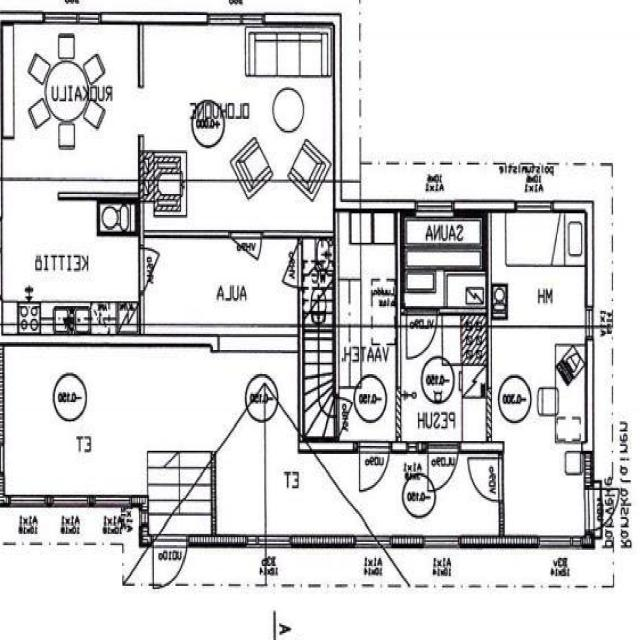door: (230, 230, 262, 282), (428, 442, 459, 495), (154, 537, 186, 588), (407, 308, 438, 360), (139, 248, 175, 292), (268, 244, 303, 288), (360, 442, 389, 494), (333, 398, 366, 435)
